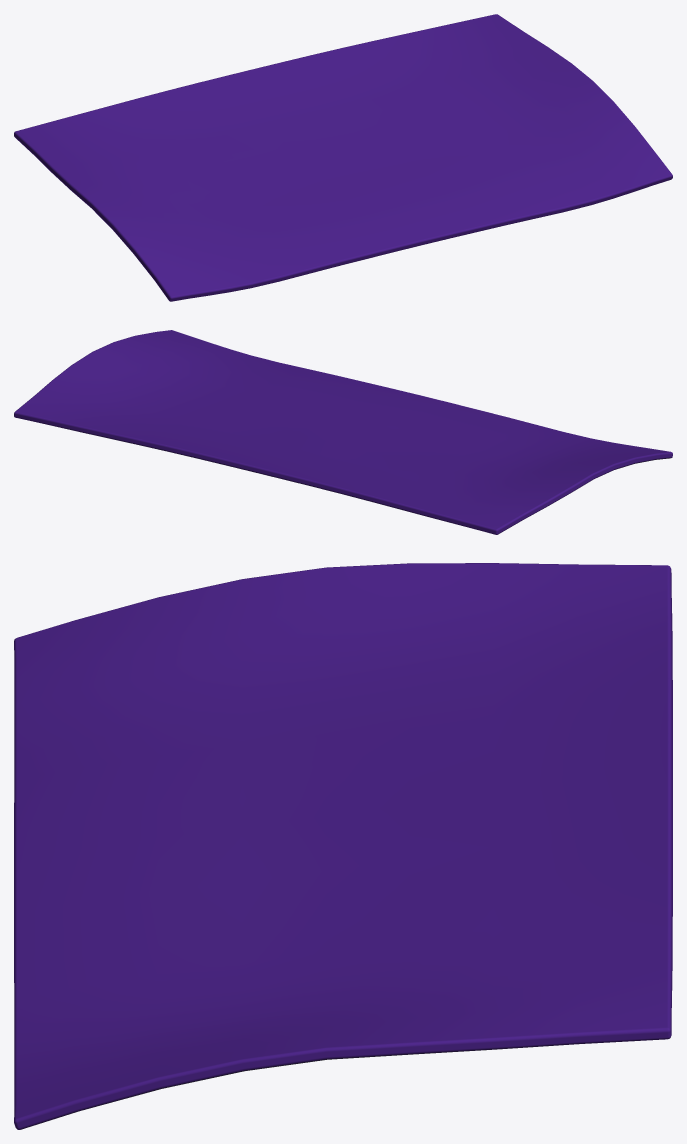
File: frunk.glb
3 renders of one model, top to bottom at view 1: azimuth 30°, elevation 25°; view 2: azimuth 150°, elevation 25°; view 3: azimuth 270°, elevation 25°, orthographic. The views are drawn at different scales.
Visible parts, largest first — view 1: frunk; view 2: frunk; view 3: frunk.
Part boxes in pixels (x1,y1,x2,y2): frunk: (14,14,672,301); frunk: (14,330,672,534); frunk: (14,563,672,1129).
Size of the model in its own units: 1.78 by 0.1936 by 1.02.
